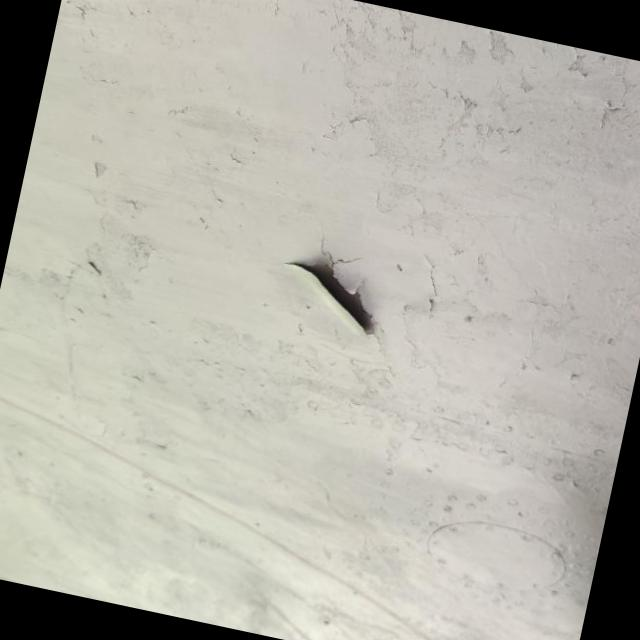Paint-off: (288, 259, 373, 333)
